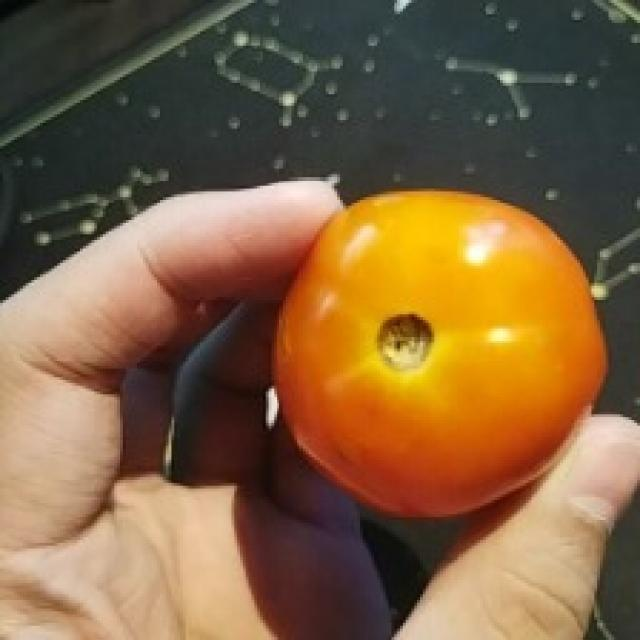Fresh Tomato: (258, 204, 634, 525)
